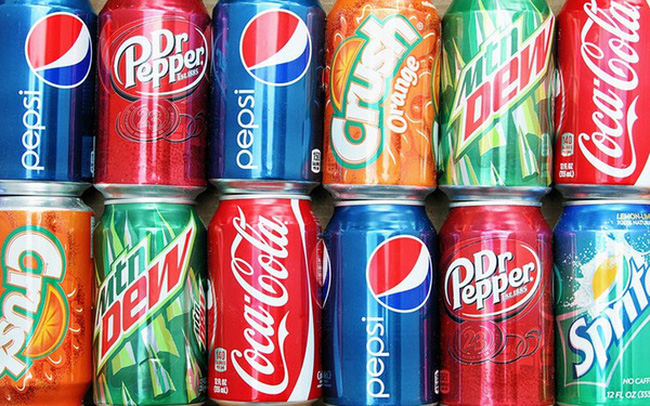cocacola: (228, 204, 292, 397), (576, 3, 641, 180)
crush: (330, 11, 424, 172), (1, 225, 63, 387)
drpepper: (444, 249, 537, 315), (111, 28, 204, 91)
mountaindew: (448, 16, 553, 160), (96, 226, 193, 361)
pepsi: (238, 7, 314, 86), (365, 234, 433, 314), (24, 11, 92, 89)
sprite: (566, 257, 649, 379)
